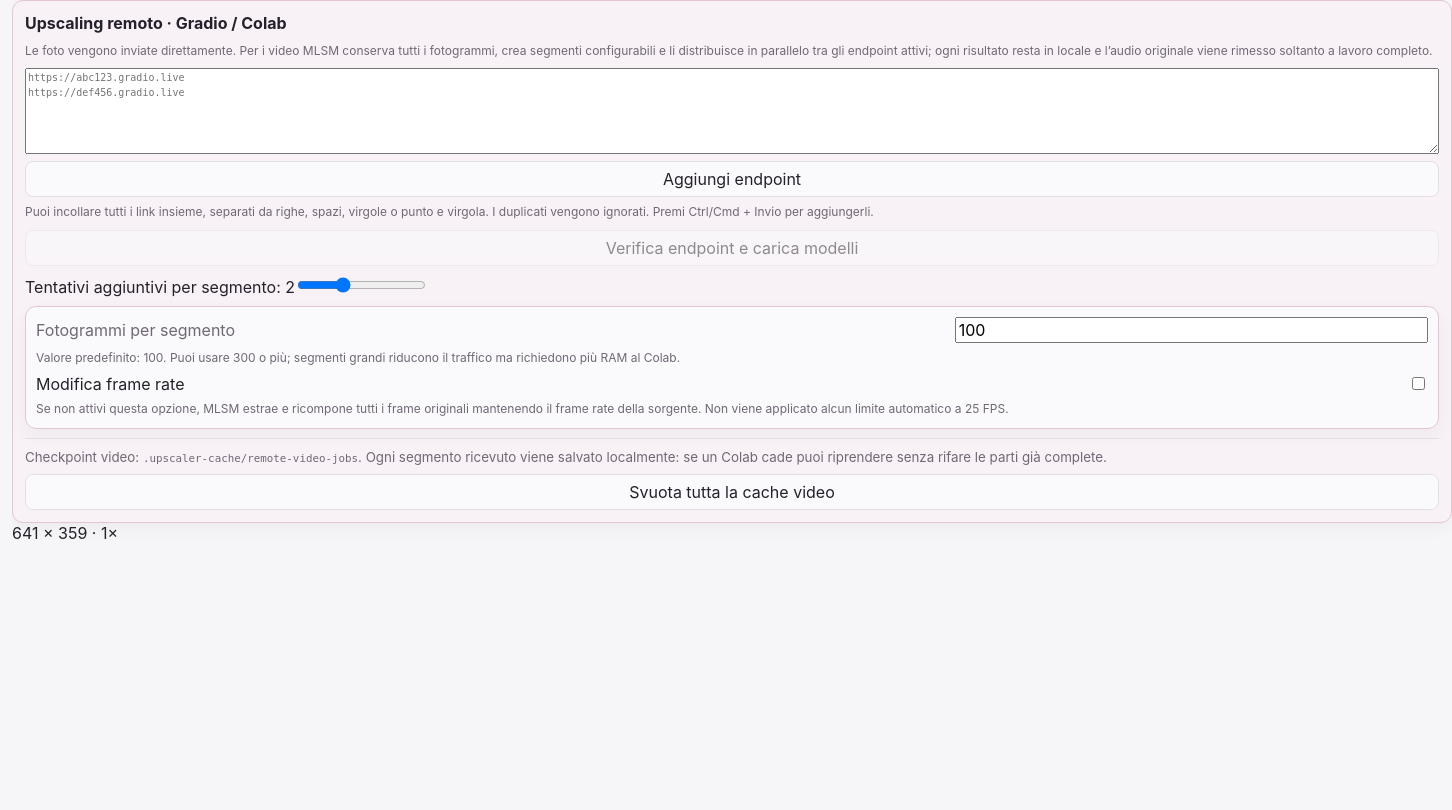
Test: RemoteUpscalerPanel › interroga automaticamente il catalogo quando viene aggiunto un endpoint nella modalità remota
This screenshot has width=1452, height=810.
Type "https://one.gradio.live" into the text box named "URL endpoint Upscaler remoto" at coordinates (732, 111), box [25,68,1439,154]
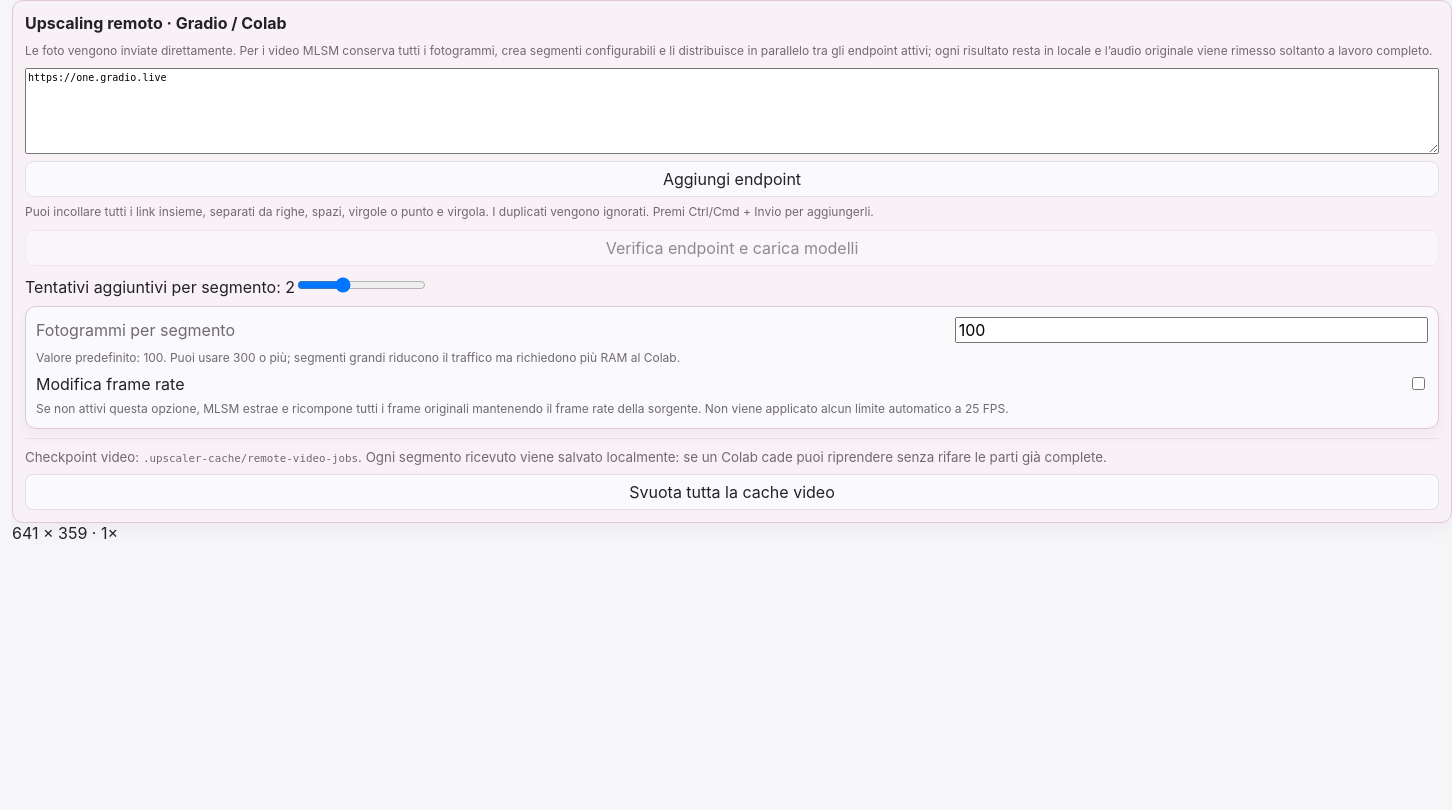
Click the button "Aggiungi endpoint" at coordinates (732, 179), box [25,161,1439,197]
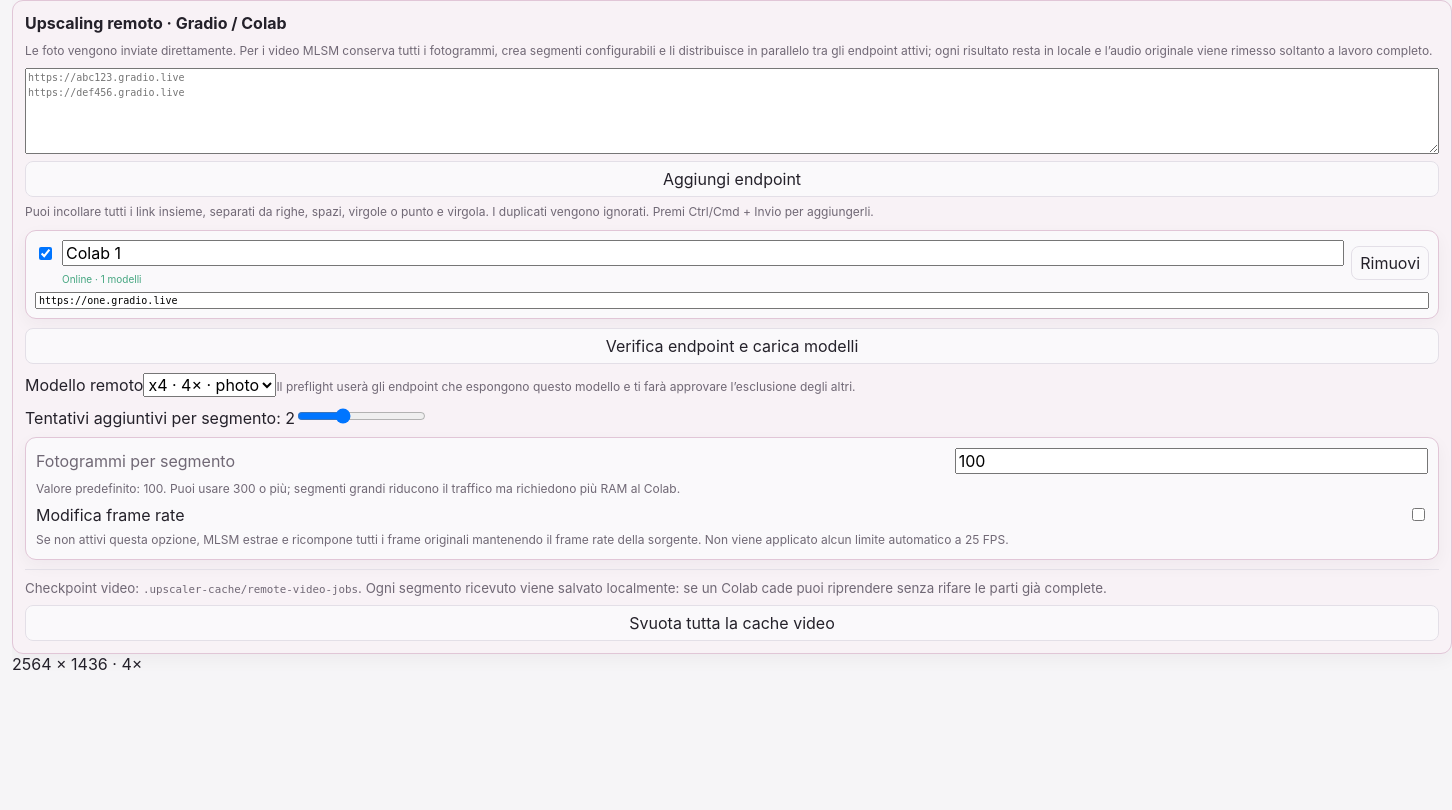
Result: the dropdown named "Modello Upscaler remoto" shows "x4 · 4× · photo" at [143,373,276,397]
Result: the text "Online · 1 modelli" is shown at [62,273,142,285]
Result: the text with test id "remote-target" reads "2564 × 1436 · 4×" at [12,654,142,674]
